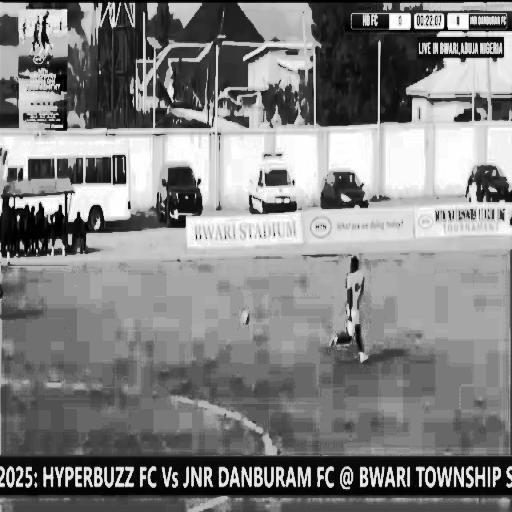ball: (238, 304, 252, 331)
team1: (340, 253, 371, 370)
